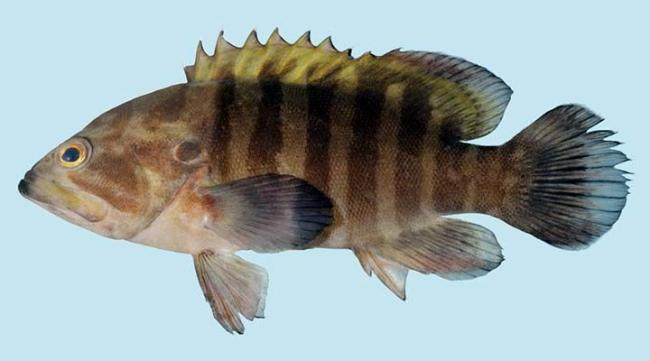fish: (18, 27, 634, 336)
